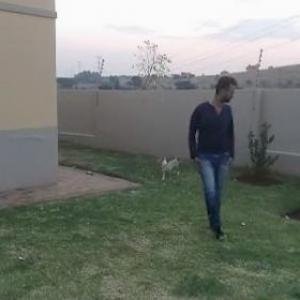follow: (183, 67, 227, 225)
